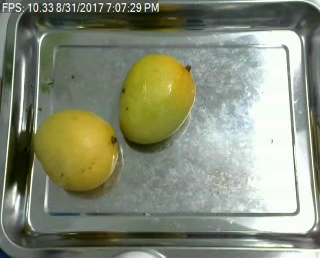Mango: (34, 109, 119, 192), (119, 54, 195, 144)
